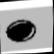correct: (0, 15, 41, 45)
